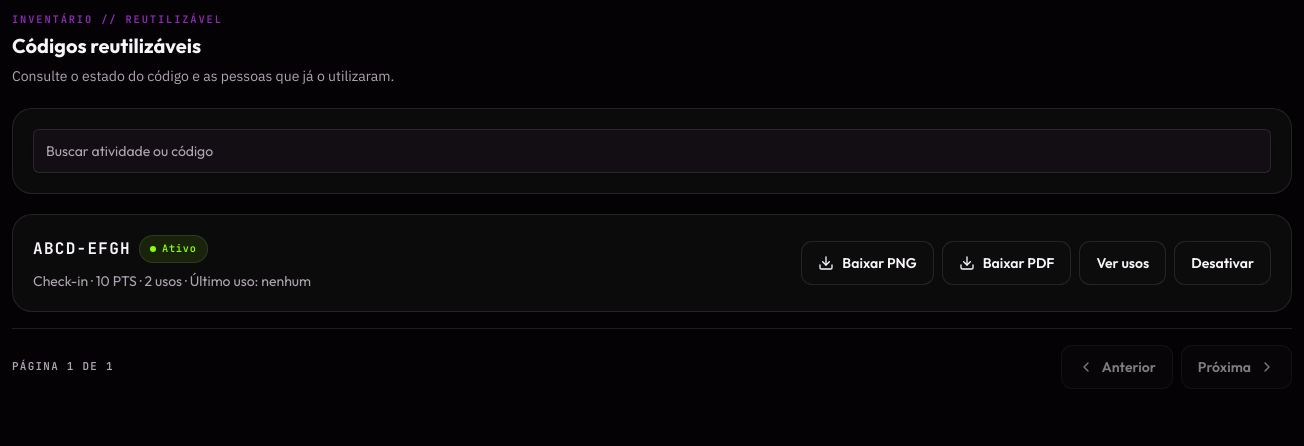
Scenario: ReusableCodeHistory downloads › mostra a mensagem retornada quando o QR não pode ser baixado
Expected: the text "ABCD-EFGH" is shown, left=33, top=237, right=131, bottom=261
Click the button "Baixar PNG": (867, 263) left=801, top=241, right=934, bottom=285
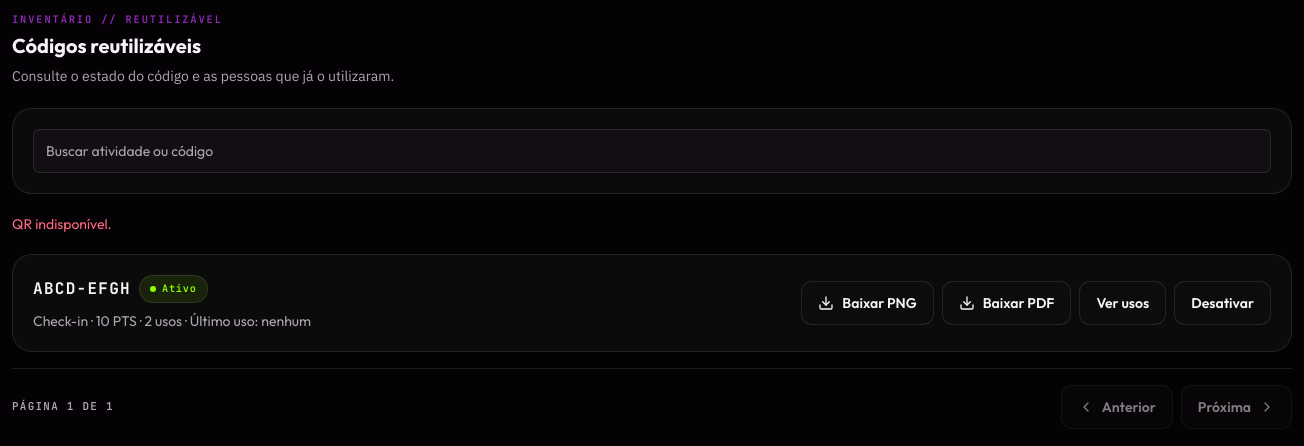
Expected: the message reads "QR indisponível.", left=12, top=215, right=112, bottom=233
